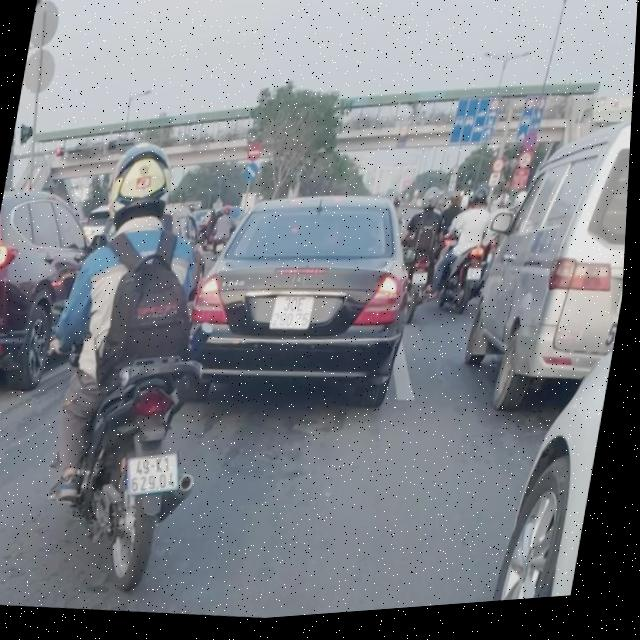car: (176, 176, 430, 426), (455, 114, 632, 430)
motorcycle: (52, 338, 224, 611), (441, 232, 492, 320), (400, 242, 444, 322)
plate: (113, 440, 185, 507), (264, 278, 323, 339)
